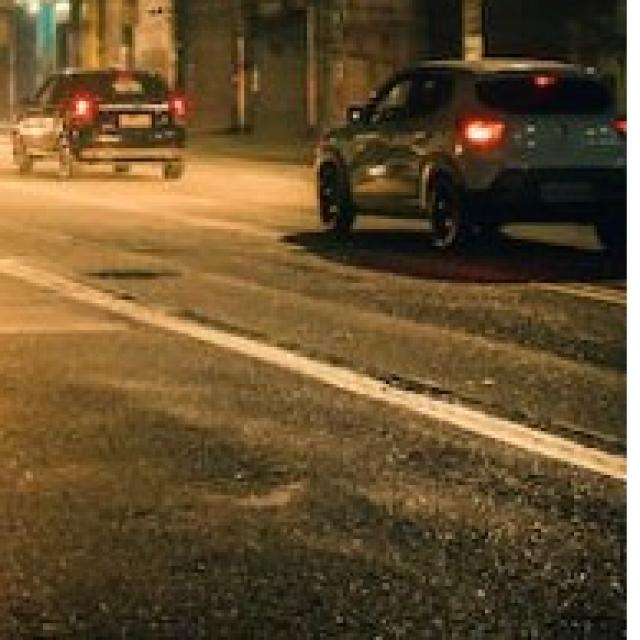car: (309, 55, 630, 258), (12, 68, 190, 186)
